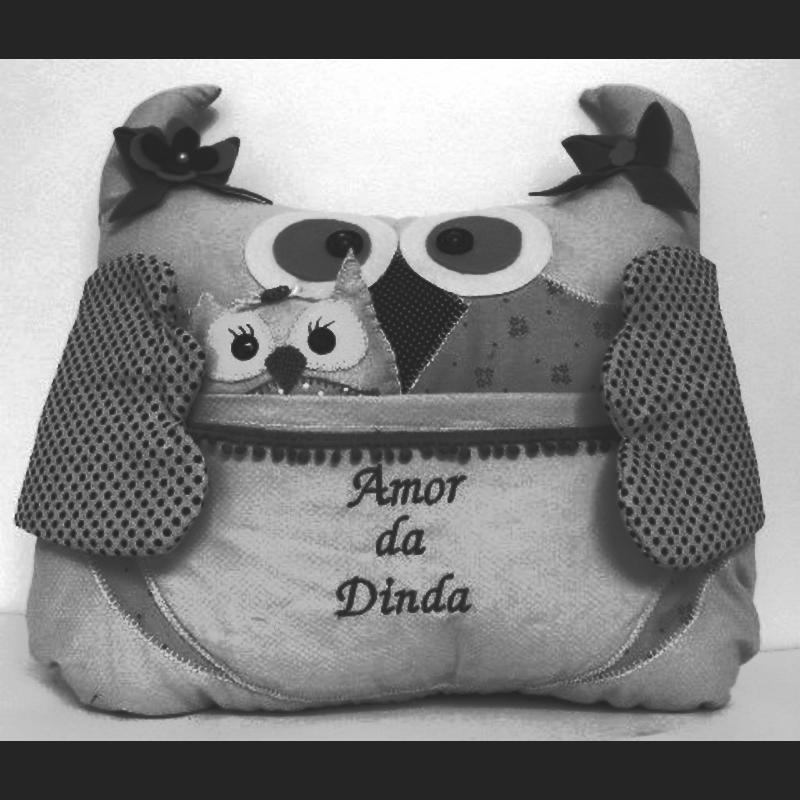pillow: (19, 78, 770, 718)
